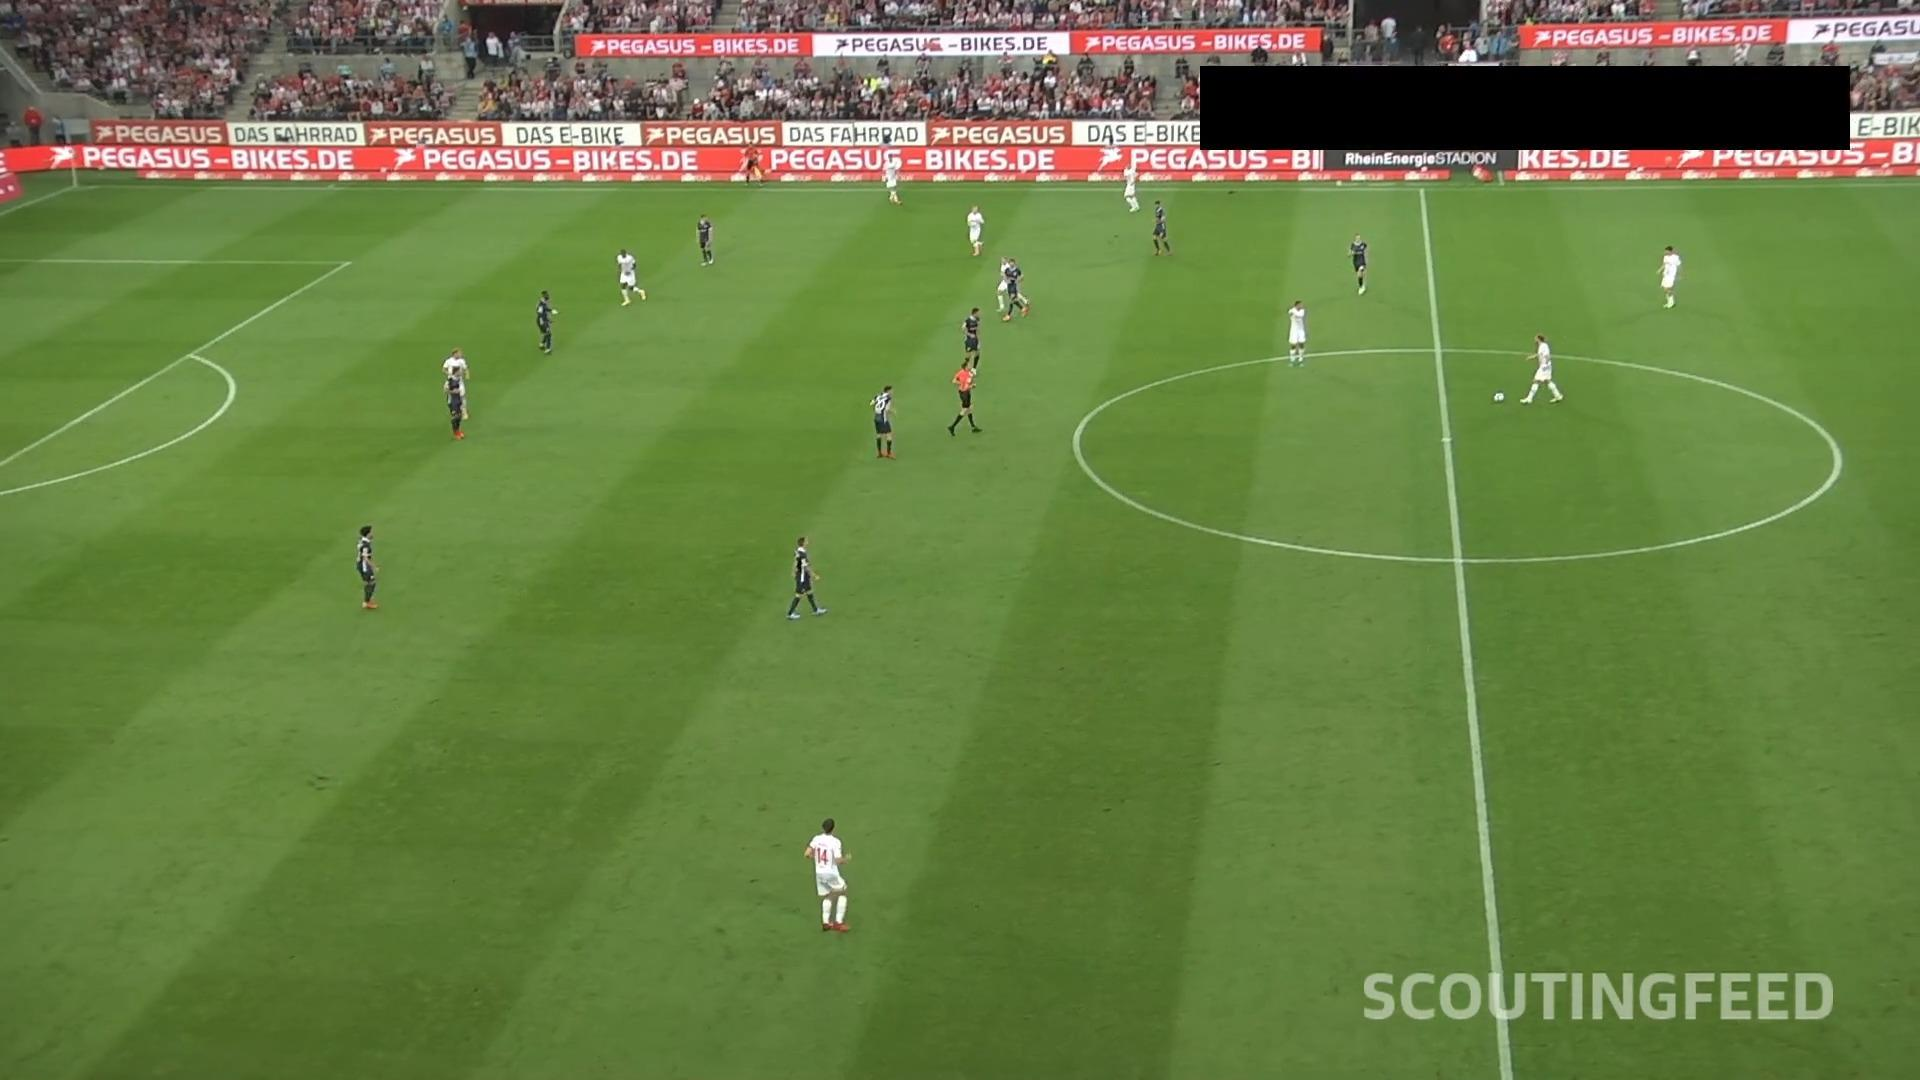ball: (1491, 392, 1506, 404)
